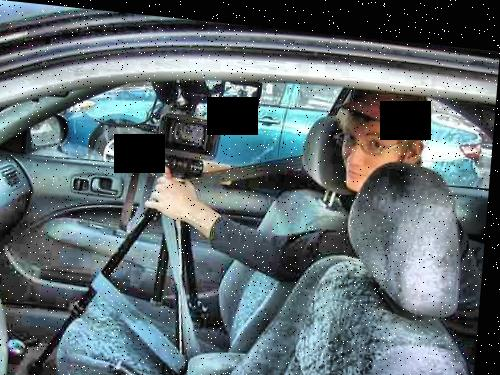seatbelt: (211, 130, 320, 195)
